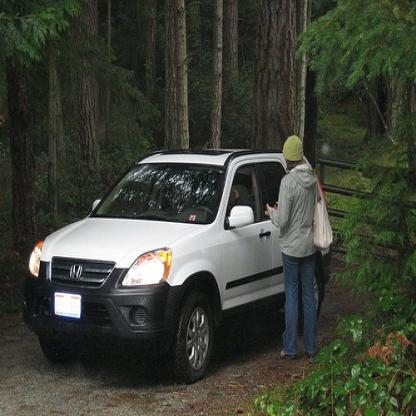car: (21, 147, 332, 385)
person: (266, 135, 334, 362)
